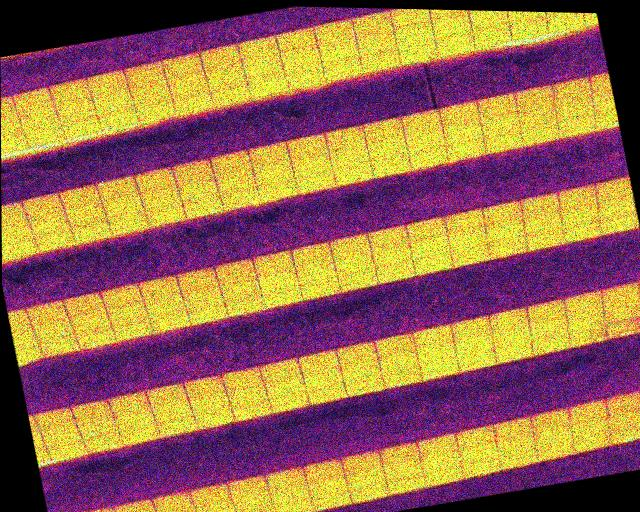Hotspot: (177, 189, 226, 224), (216, 181, 264, 215), (220, 290, 267, 321), (379, 362, 423, 393)
